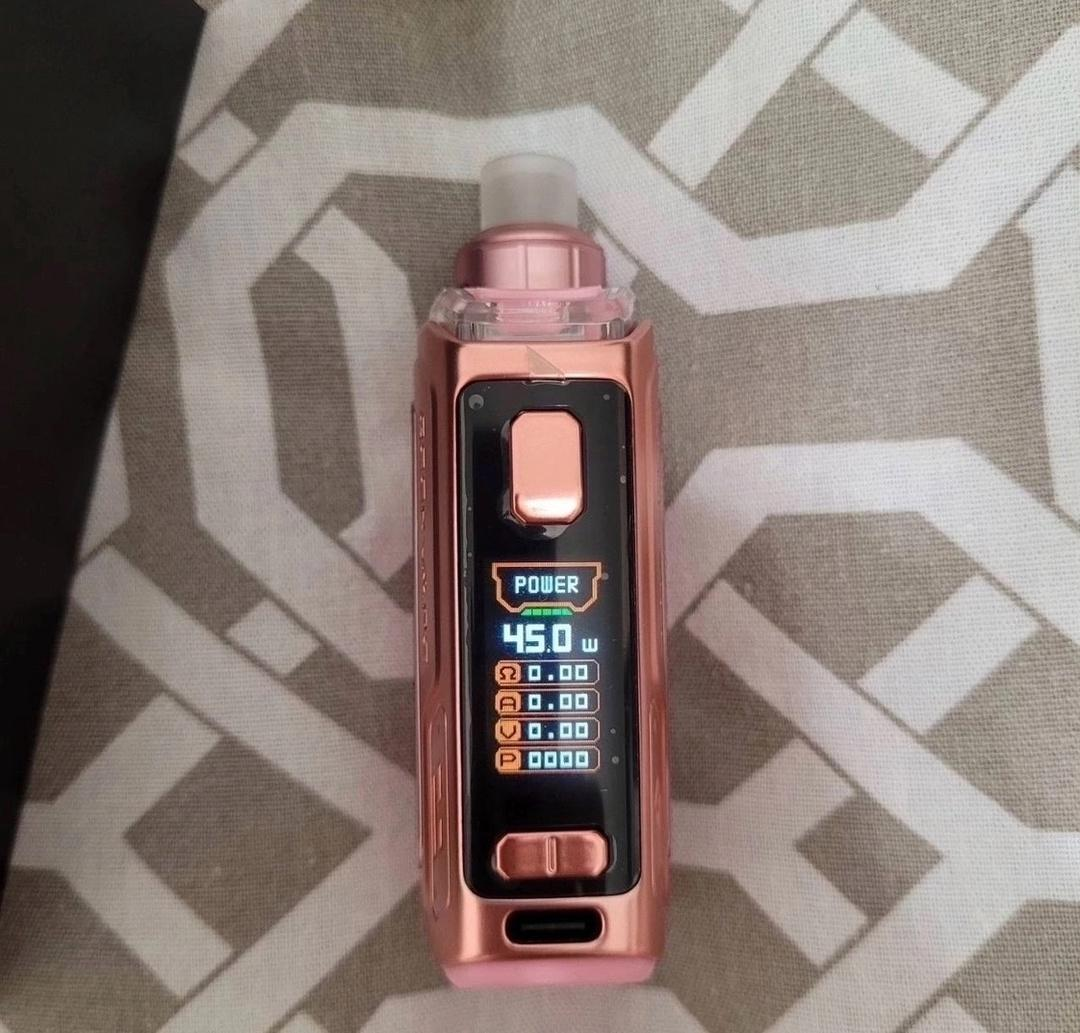Vape: (412, 153, 669, 984)
